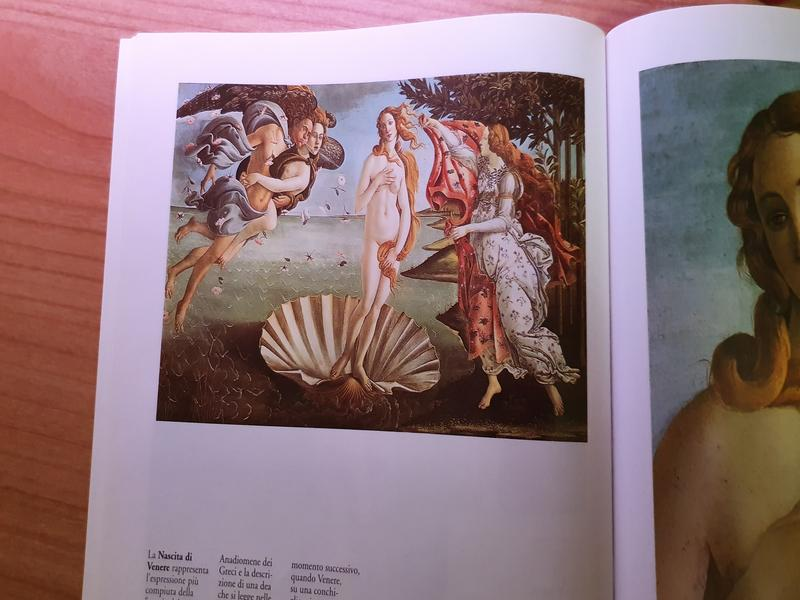Venere: (154, 66, 591, 443)
